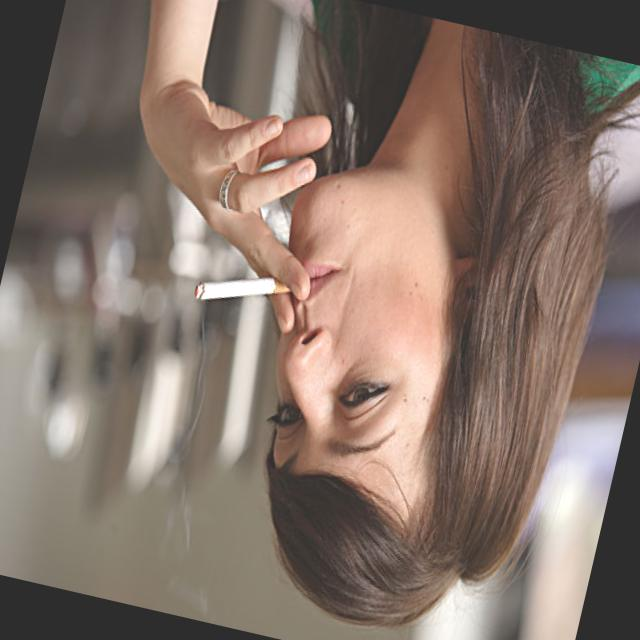smoke: (190, 260, 275, 320)
